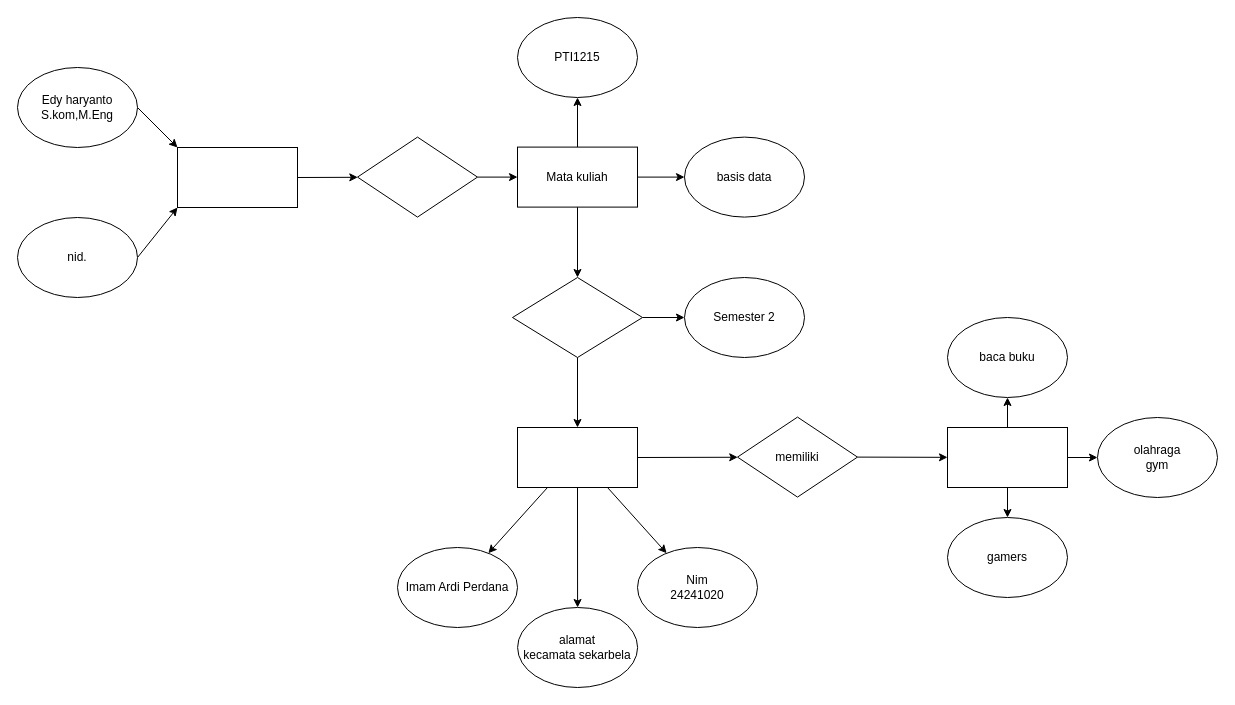
This 1235x705 diagram has some shape labels left out. The shapes that lost their labels are listed below. From the top down, each one's centre as x and y in pixels, then its label:
(237,177): dosen
(417,176): Mengajar
(577,317): Registrasi
(577,457): mahasiswa
(1007,457): hobi
